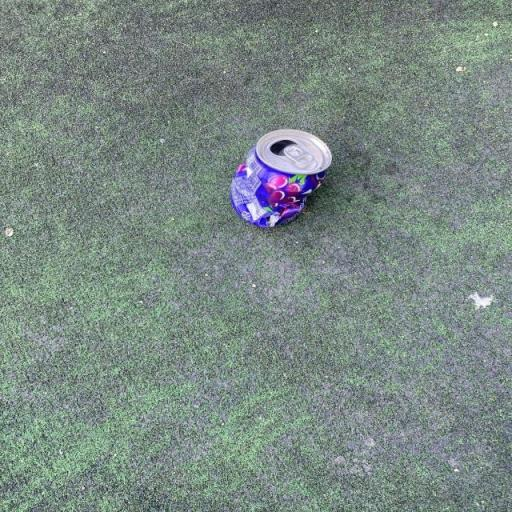metal: (206, 107, 360, 254)
